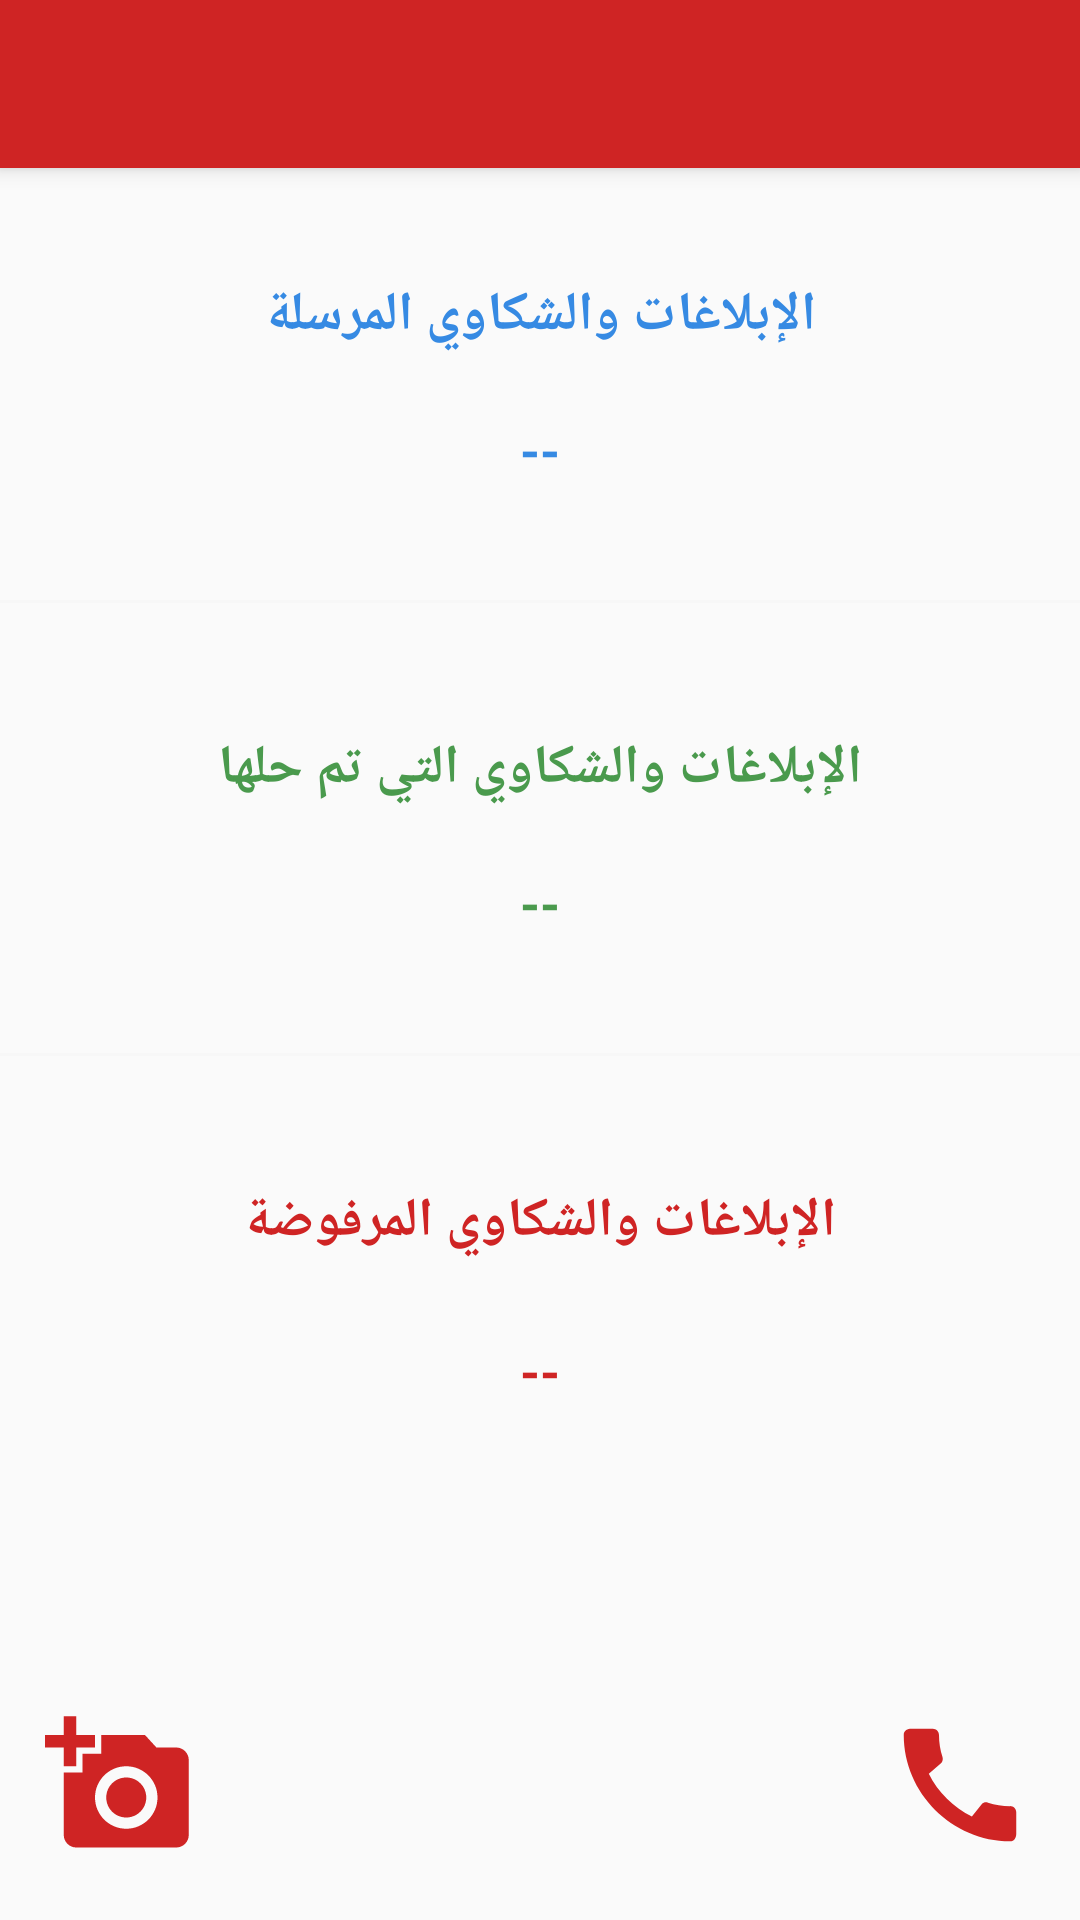

Locate icon controls on the screen. Image size 1080px×1920px, boxes as (x1, y1, x2, y2).
call: (903, 1728, 1017, 1842)
camera: (45, 1716, 189, 1848)
